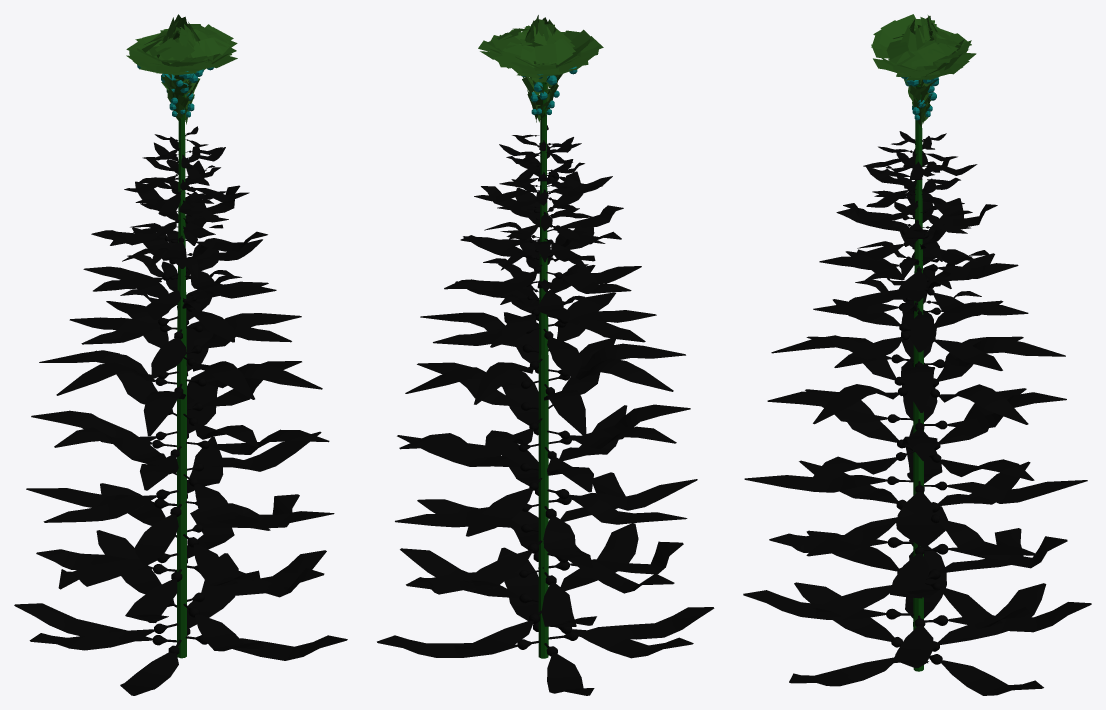
File: KelpHighPoly2.obj
3 views of the same model, side by side, from view 1: azimuth 30°, elevation 25°; view 2: azimuth 150°, elevation 25°; view 3: azimuth 270°, elevation 25° (orthographic). The views are drawn at different scales.
Visible parts, largest first — view 1: Fronds, Blades, Stipe1, Pneumatocysts1, Bulbs; view 2: Fronds, Blades, Stipe1, Pneumatocysts1, Bulbs; view 3: Fronds, Blades, Pneumatocysts1, Stipe1.
Boxes of the visible parts, x1=… form: Fronds: x1=14, y1=126, x2=347, y2=695; Blades: x1=126, y1=14, x2=237, y2=124; Stipe1: x1=177, y1=93, x2=186, y2=658; Pneumatocysts1: x1=152, y1=135, x2=209, y2=654; Bulbs: x1=137, y1=65, x2=213, y2=117; Fronds: x1=377, y1=125, x2=714, y2=695; Blades: x1=478, y1=15, x2=603, y2=122; Stipe1: x1=538, y1=82, x2=548, y2=658; Pneumatocysts1: x1=517, y1=135, x2=578, y2=656; Bulbs: x1=521, y1=66, x2=577, y2=114; Fronds: x1=743, y1=131, x2=1091, y2=695; Blades: x1=871, y1=14, x2=976, y2=127; Pneumatocysts1: x1=886, y1=138, x2=948, y2=664; Stipe1: x1=913, y1=84, x2=923, y2=671.
Size of the model in its own units: 3.03 by 6.3 by 3.04.
